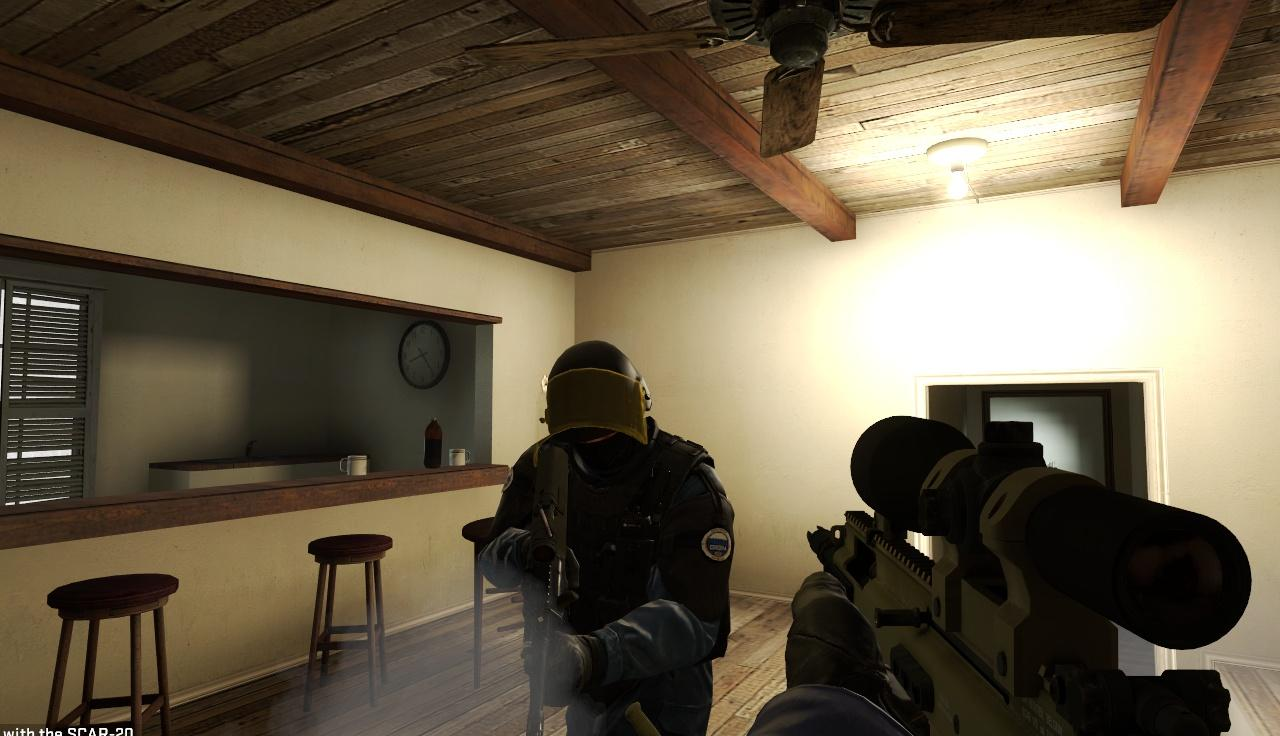ct: (507, 339, 728, 736)
cthead: (543, 341, 653, 467)
sniper: (805, 413, 1280, 736)
